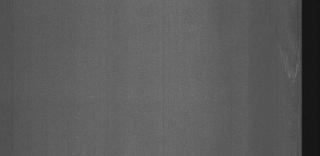silk spot: (271, 44, 299, 86)
